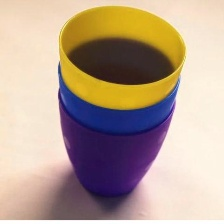glass: (48, 3, 192, 209)
